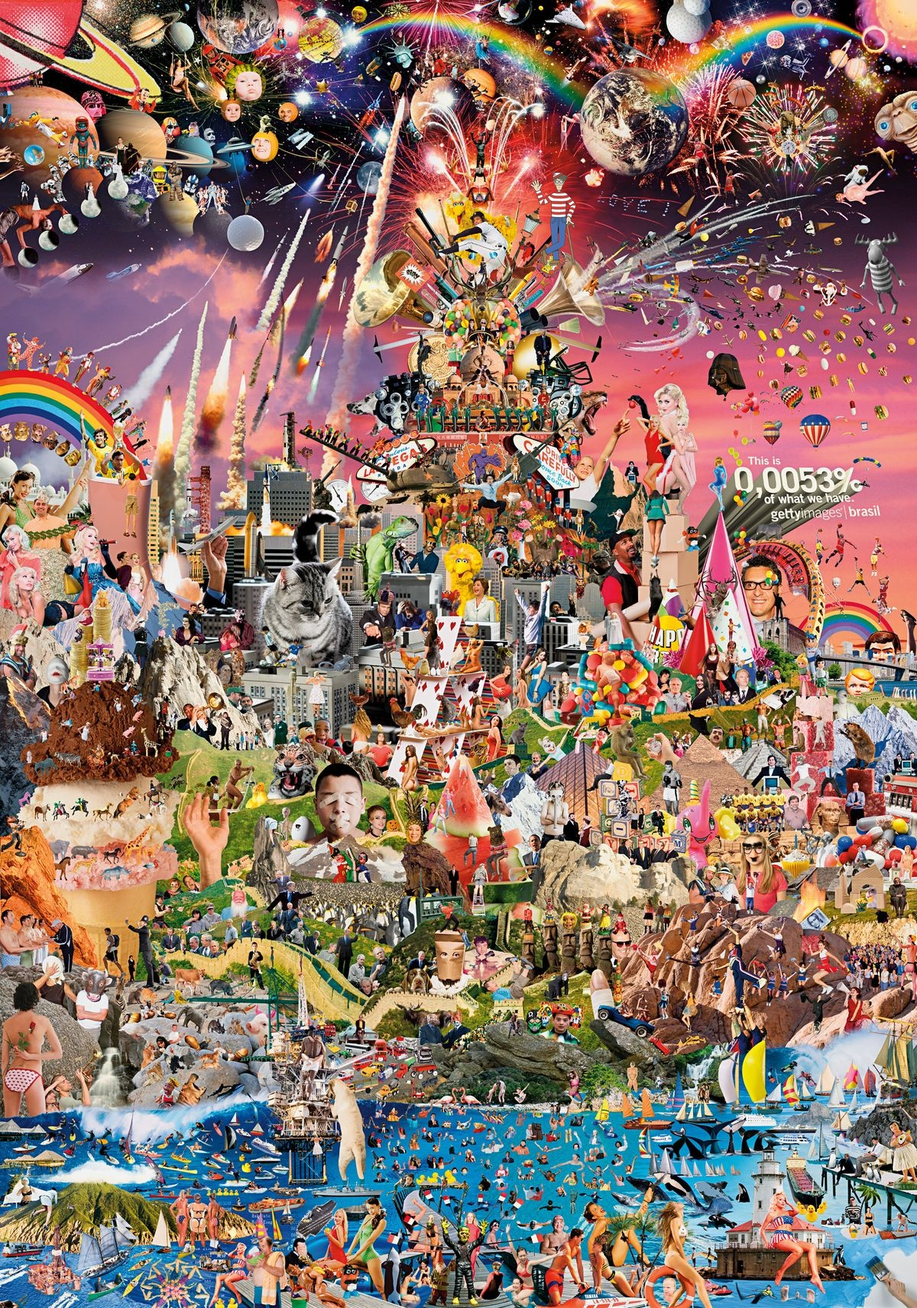waldo: (530, 170, 576, 266)
